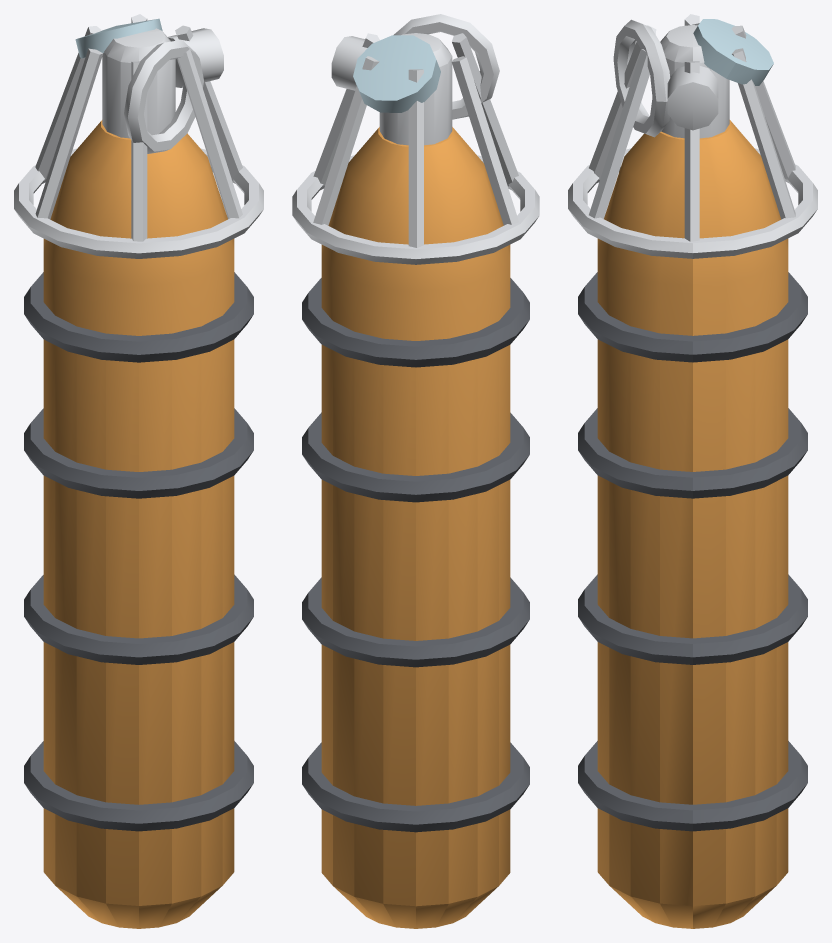
The model's file is mountaineering-and-summit-expedition-oxygen-bottle-5efded26__18817.glb.
3 views of the same model, side by side, from view 1: azimuth 30°, elevation 25°; view 2: azimuth 150°, elevation 25°; view 3: azimuth 270°, elevation 25° (orthographic).
Parts seen in each view (by area): view 1: oxygen-bottle; view 2: oxygen-bottle; view 3: oxygen-bottle.
Boxes of the visible parts, x1=… form: oxygen-bottle: x1=14, y1=14, x2=263, y2=928; oxygen-bottle: x1=292, y1=14, x2=539, y2=928; oxygen-bottle: x1=568, y1=14, x2=817, y2=928.
Bounding box in the file's own units: 0.152 × 0.586 × 0.1497.
